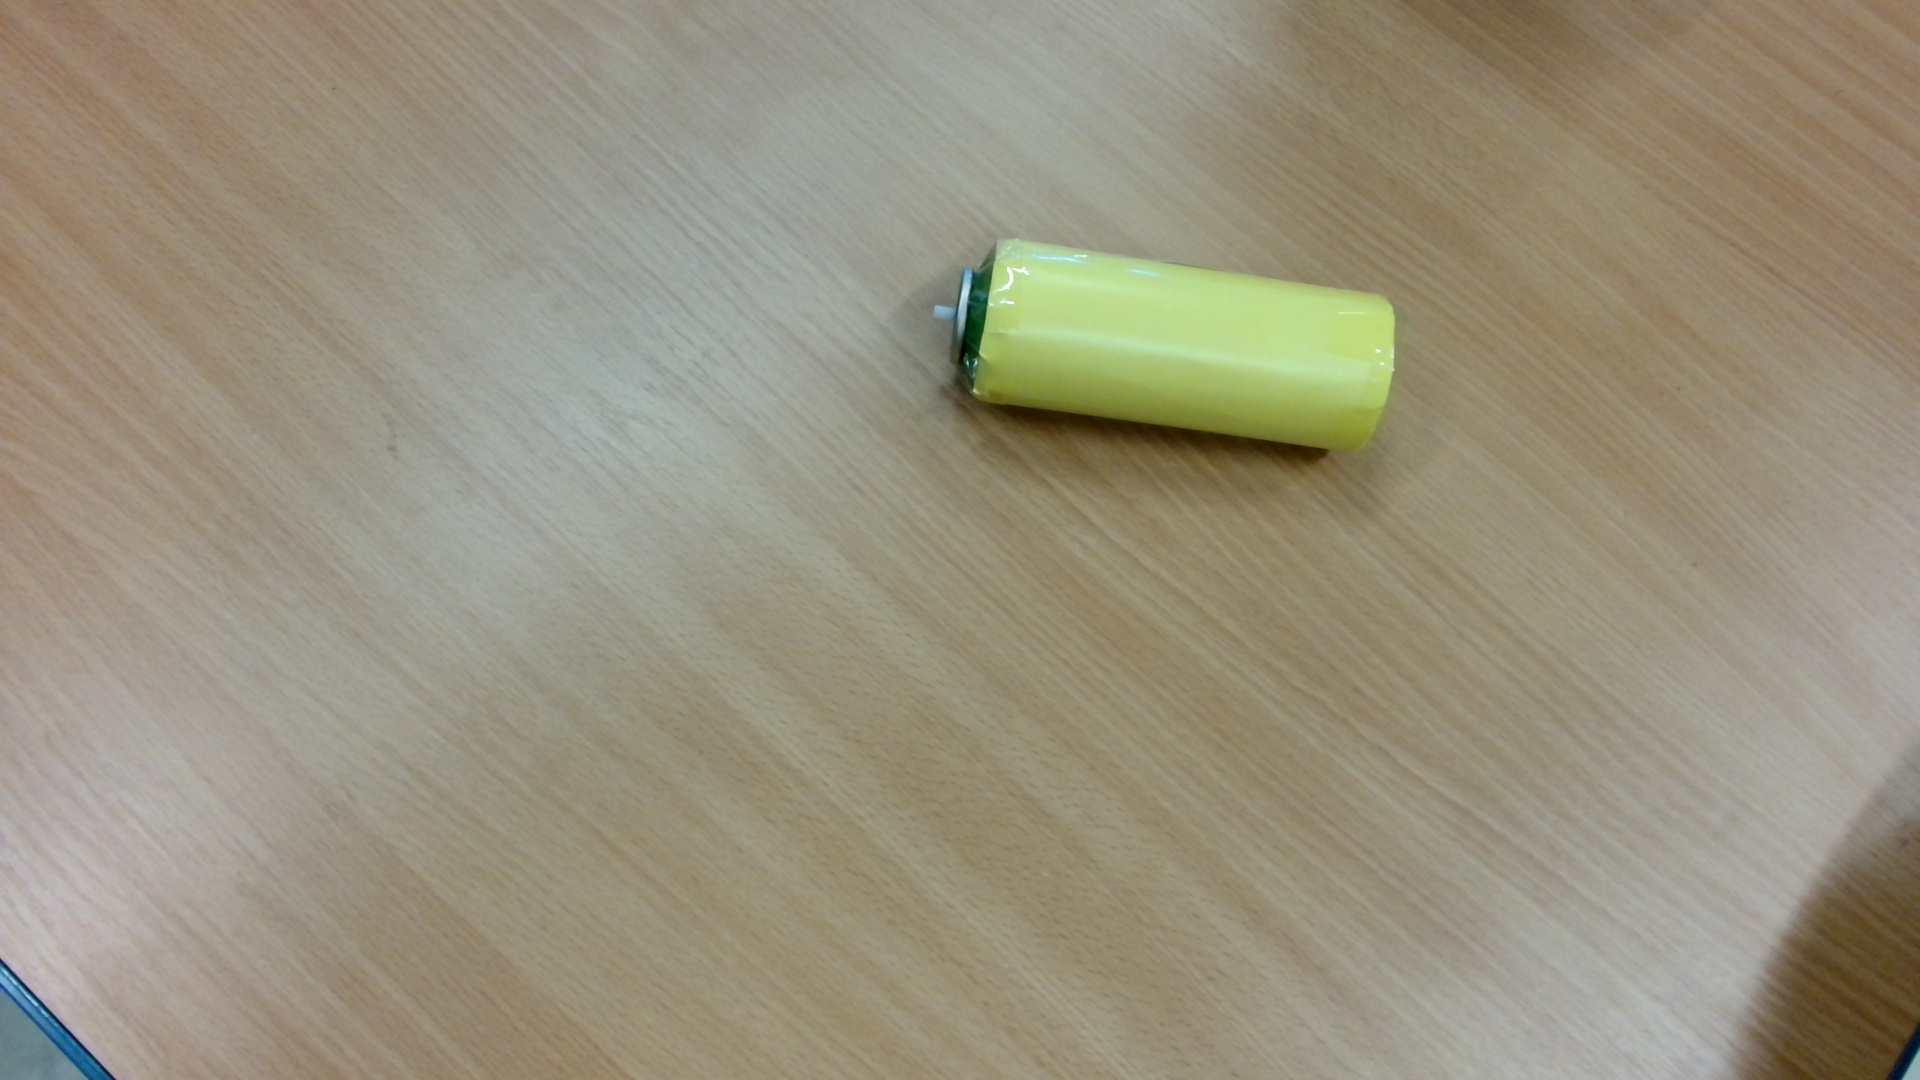Cylinder: (923, 225, 1408, 473)
